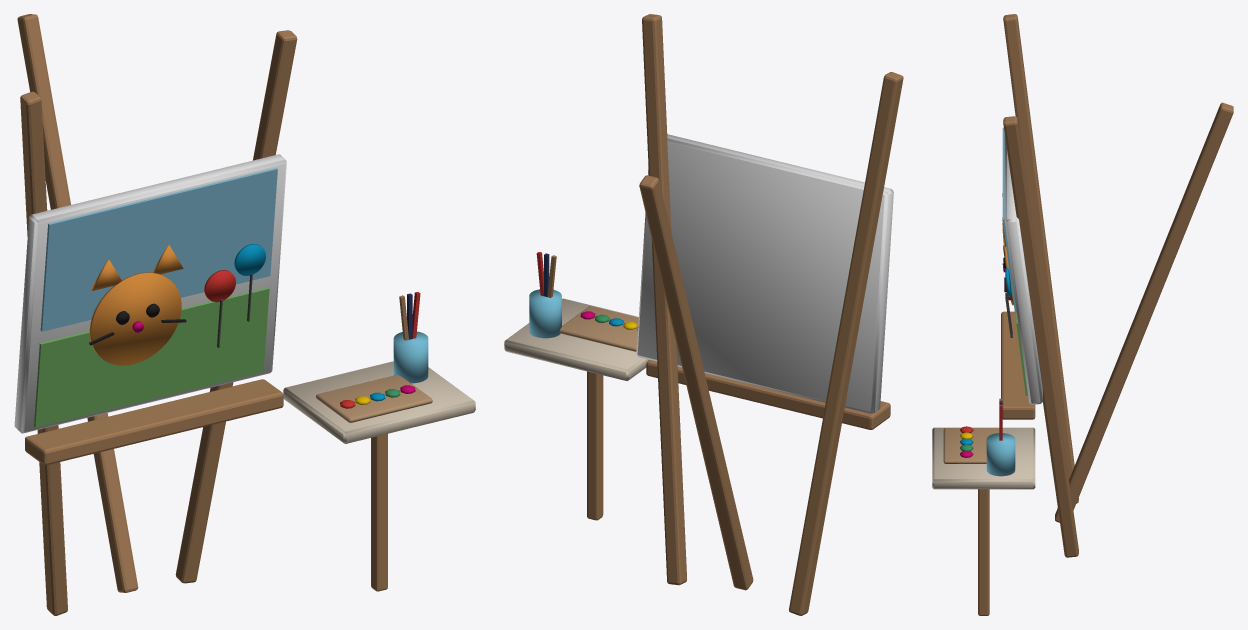
Rendered from m_easelart.glb.
The picture shows the model from 3 angles, left to right: view 1: azimuth 30°, elevation 25°; view 2: azimuth 150°, elevation 25°; view 3: azimuth 270°, elevation 25°; orthographic projection. The views are drawn at different scales.
Visible parts, largest first — view 1: m_easelart; view 2: m_easelart; view 3: m_easelart.
Boxes of the visible parts, left/top/right/bottom form: m_easelart: left=14, top=14, right=475, bottom=615; m_easelart: left=504, top=14, right=903, bottom=615; m_easelart: left=932, top=14, right=1233, bottom=615.
Size of the model in its own units: 0.6755 by 0.8955 by 0.5259.
